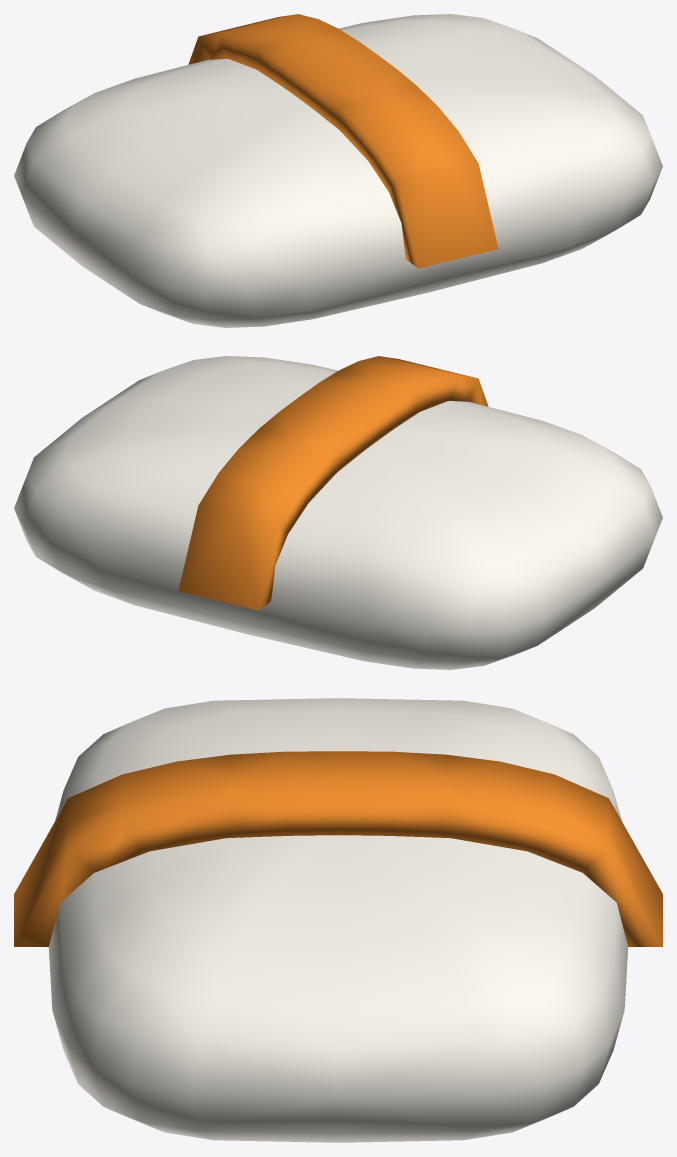
Rendered from Prop_FoodPack.glb.
The picture shows the model from 3 angles, top to bottom: view 1: azimuth 30°, elevation 25°; view 2: azimuth 150°, elevation 25°; view 3: azimuth 270°, elevation 25°; orthographic projection. The views are drawn at different scales.
Parts seen in each view (by area): view 1: Prop_FoodPack.Bag, Prop_FoodPack.Band; view 2: Prop_FoodPack.Bag, Prop_FoodPack.Band; view 3: Prop_FoodPack.Bag, Prop_FoodPack.Band.
Part boxes in pixels (x1=…): Prop_FoodPack.Bag: x1=14, y1=14, x2=662, y2=327; Prop_FoodPack.Band: x1=188, y1=14, x2=498, y2=268; Prop_FoodPack.Bag: x1=14, y1=356, x2=662, y2=669; Prop_FoodPack.Band: x1=178, y1=356, x2=488, y2=610; Prop_FoodPack.Bag: x1=48, y1=698, x2=628, y2=1142; Prop_FoodPack.Band: x1=14, y1=751, x2=662, y2=946.
Bounding box in the file's own units: 0.2 × 0.068 × 0.156.
Materials: 1 (1 with a texture image).
